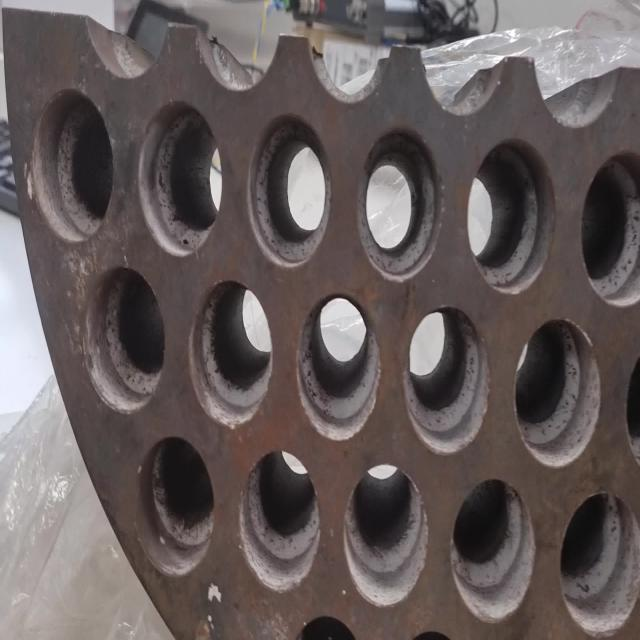Hole: (466, 137, 556, 295), (356, 126, 443, 282), (137, 100, 222, 258), (246, 112, 332, 268), (402, 304, 490, 455), (27, 87, 112, 242), (514, 318, 601, 468), (188, 279, 272, 428), (343, 463, 429, 608), (82, 265, 166, 413), (296, 294, 380, 442), (450, 478, 536, 622), (238, 449, 320, 593), (560, 490, 639, 638), (138, 434, 215, 576), (580, 151, 640, 308), (625, 328, 640, 476)
